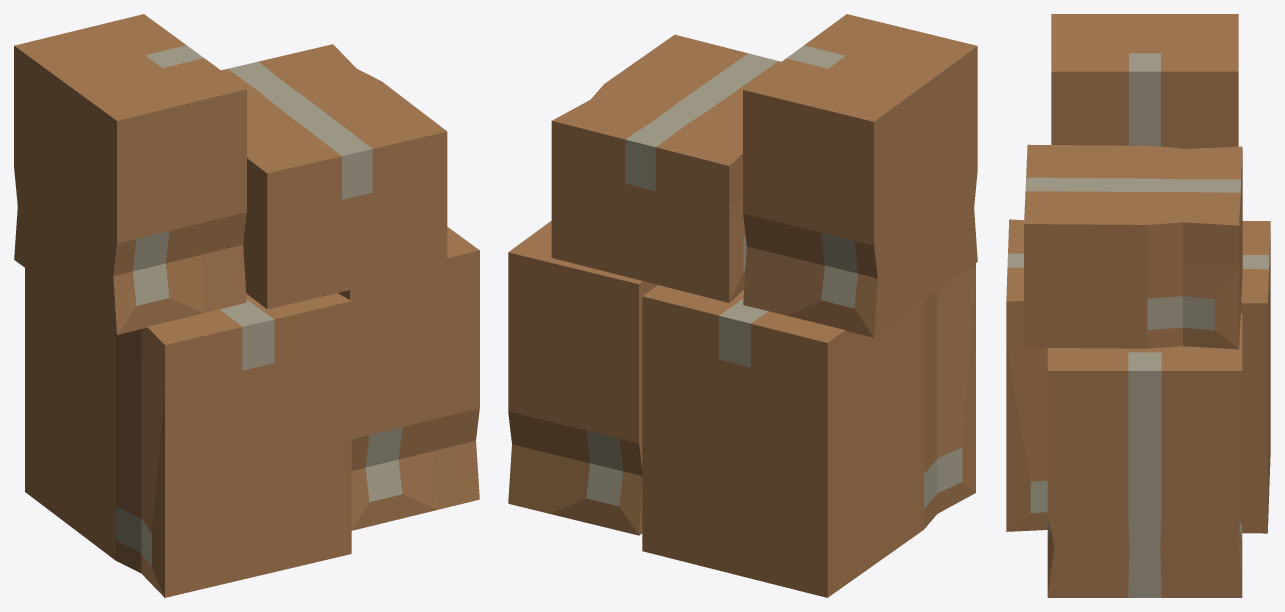
The model's file is boxes4.glb.
3 renders of one model, left to right at view 1: azimuth 30°, elevation 25°; view 2: azimuth 150°, elevation 25°; view 3: azimuth 270°, elevation 25°, orthographic. The views are drawn at different scales.
Visible parts, largest first — view 1: CardboardBoxes_4; view 2: CardboardBoxes_4; view 3: CardboardBoxes_4.
Part boxes in pixels (x1=…): CardboardBoxes_4: x1=14, y1=14, x2=479, y2=597; CardboardBoxes_4: x1=508, y1=14, x2=977, y2=597; CardboardBoxes_4: x1=1006, y1=14, x2=1270, y2=597.
Size of the model in its own units: 1.42 by 1.75 by 0.9863.
